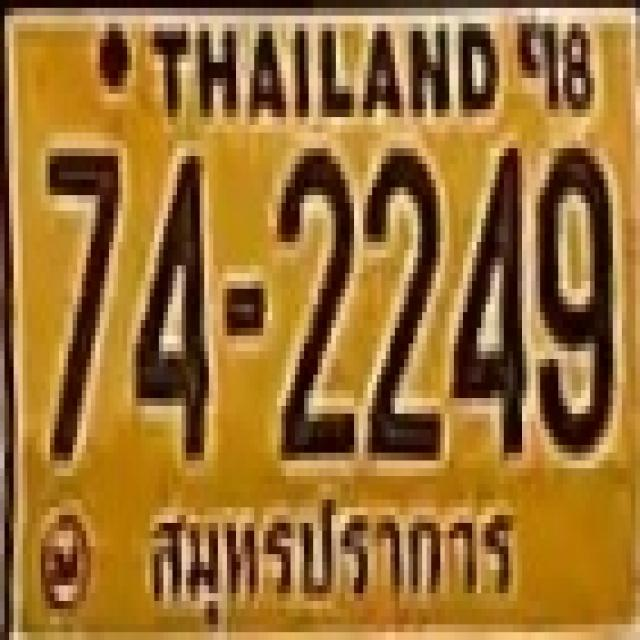2: (361, 144, 433, 456), (277, 144, 349, 449)
4: (449, 140, 522, 445), (132, 148, 204, 453)
7: (45, 144, 118, 456)
9: (536, 140, 608, 445)
SPK: (144, 488, 516, 615)
